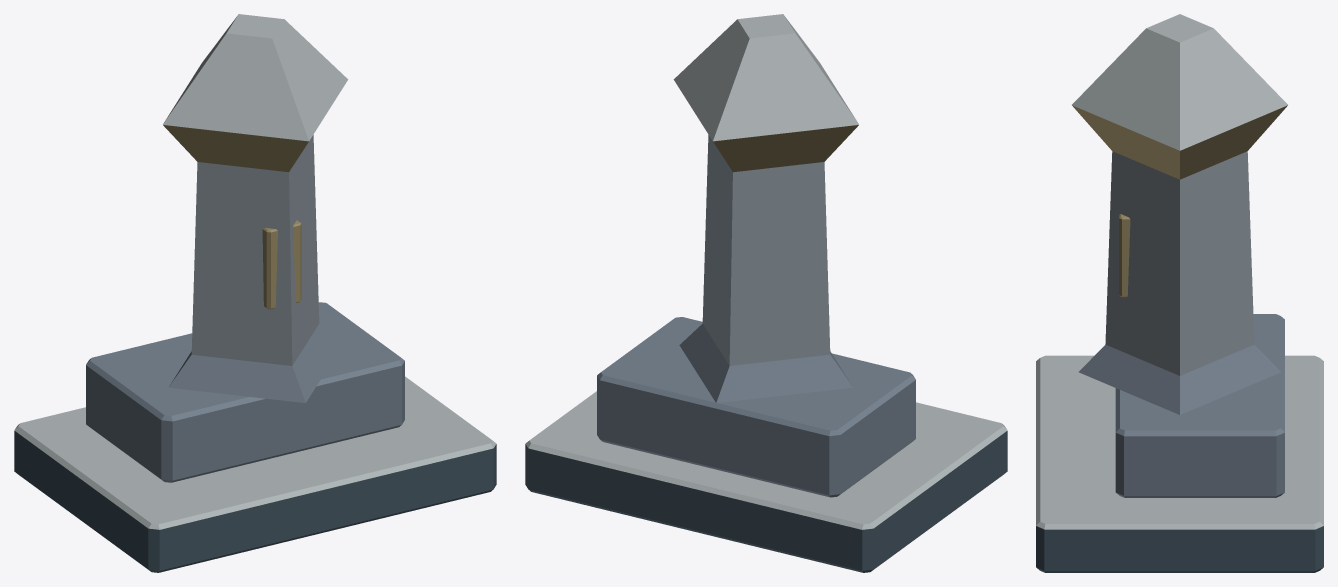
Rendered from shrine.glb.
3 views of the same model, side by side, from view 1: azimuth 30°, elevation 25°; view 2: azimuth 150°, elevation 25°; view 3: azimuth 270°, elevation 25° (orthographic).
Parts seen in each view (by area): view 1: shrine__body; view 2: shrine__body; view 3: shrine__body.
Boxes of the visible parts, x1,y1,x2,y2 form: shrine__body: (14, 14, 496, 572); shrine__body: (525, 14, 1007, 572); shrine__body: (1036, 14, 1323, 572).
Bounding box in the file's own units: 1.2 × 1.5 × 0.85.
